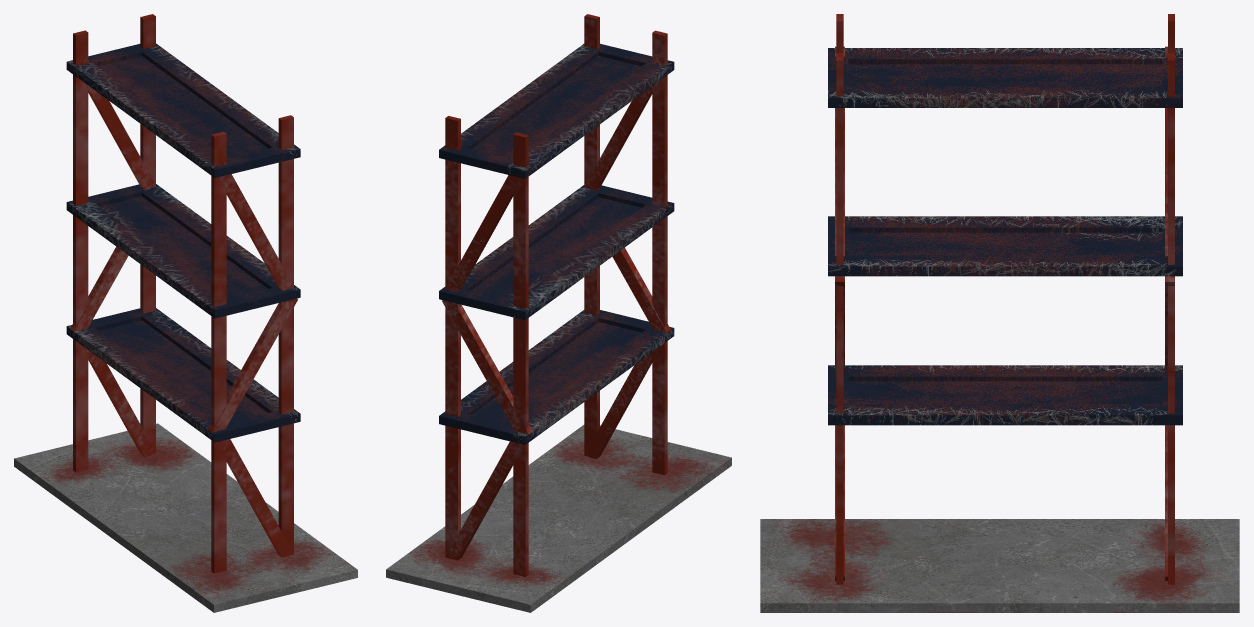
File: shelf2.fbx
3 views of the same model, side by side, from view 1: azimuth 30°, elevation 25°; view 2: azimuth 150°, elevation 25°; view 3: azimuth 270°, elevation 25° (orthographic). The views are drawn at different scales.
Visible parts, largest first — view 1: polySurface5; view 2: polySurface5; view 3: polySurface5.
Part boxes in pixels (x1,y1,x2,y2): polySurface5: (14, 14, 357, 612); polySurface5: (386, 14, 731, 612); polySurface5: (760, 14, 1239, 612).
Size of the model in its own units: 0.9039 by 2.67 by 2.18.
